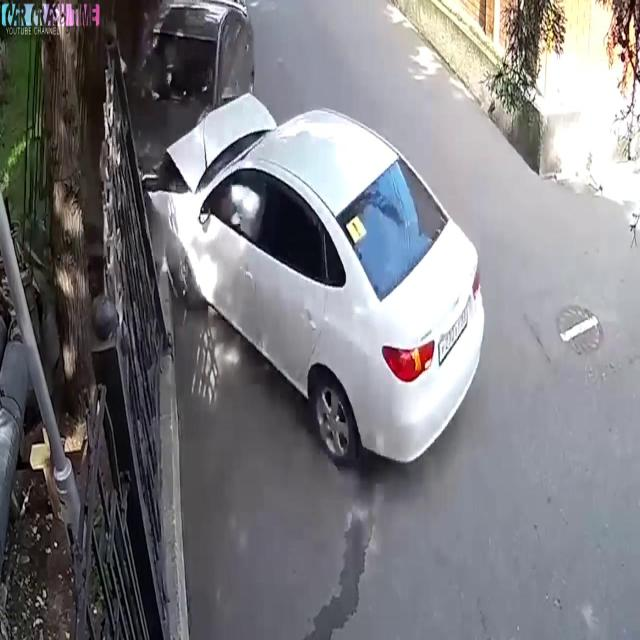accident: (104, 0, 504, 500)
